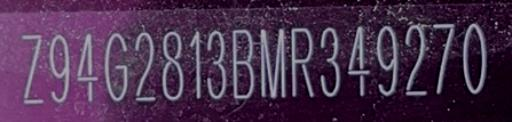letter: (98, 29, 132, 107), (256, 26, 288, 102), (226, 26, 256, 106), (458, 21, 490, 95), (17, 30, 47, 106), (129, 27, 157, 107), (44, 30, 72, 103), (400, 25, 426, 103), (429, 20, 455, 96), (315, 26, 341, 102), (202, 27, 228, 103), (346, 22, 370, 104), (158, 30, 184, 105), (73, 29, 99, 103), (288, 25, 312, 99), (375, 22, 397, 102), (184, 29, 204, 107)
